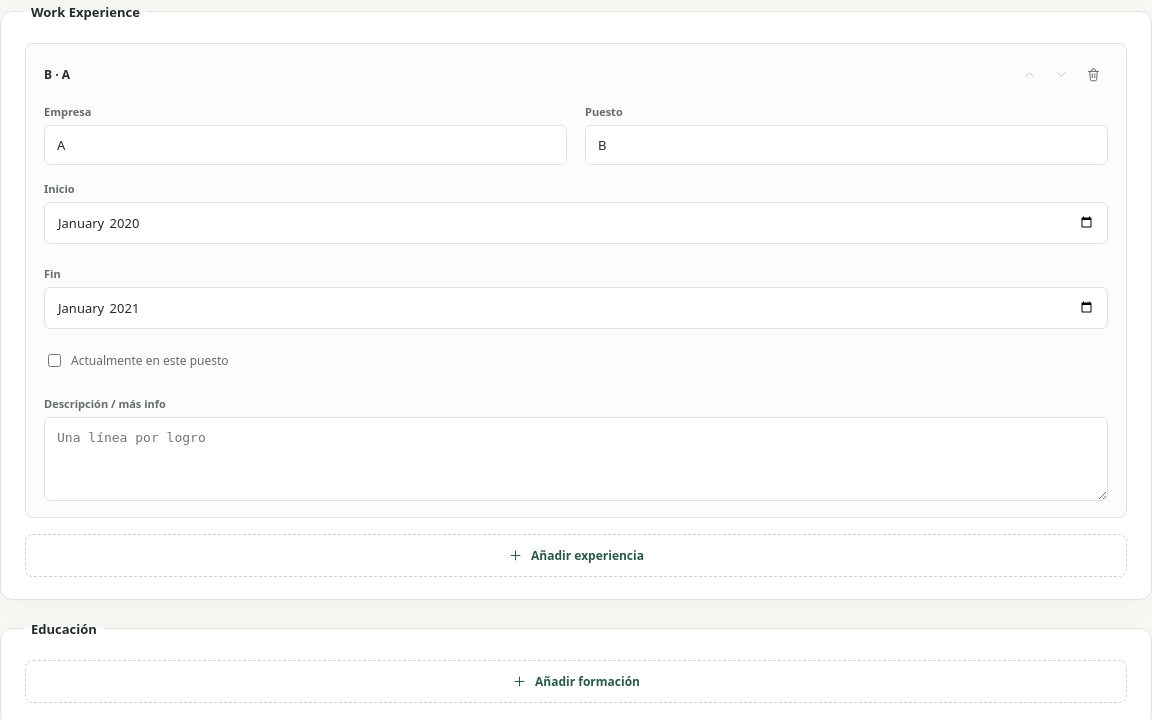
it: ProfileEditor › disables the end date while "current" is checked and clears it
(page scrolled)
What coordinates should you click on to do the following:
click the checkbox labelled "Actualmente en este puesto"
I would click on:
 (54, 360)
Its box is [48,354,61,366].
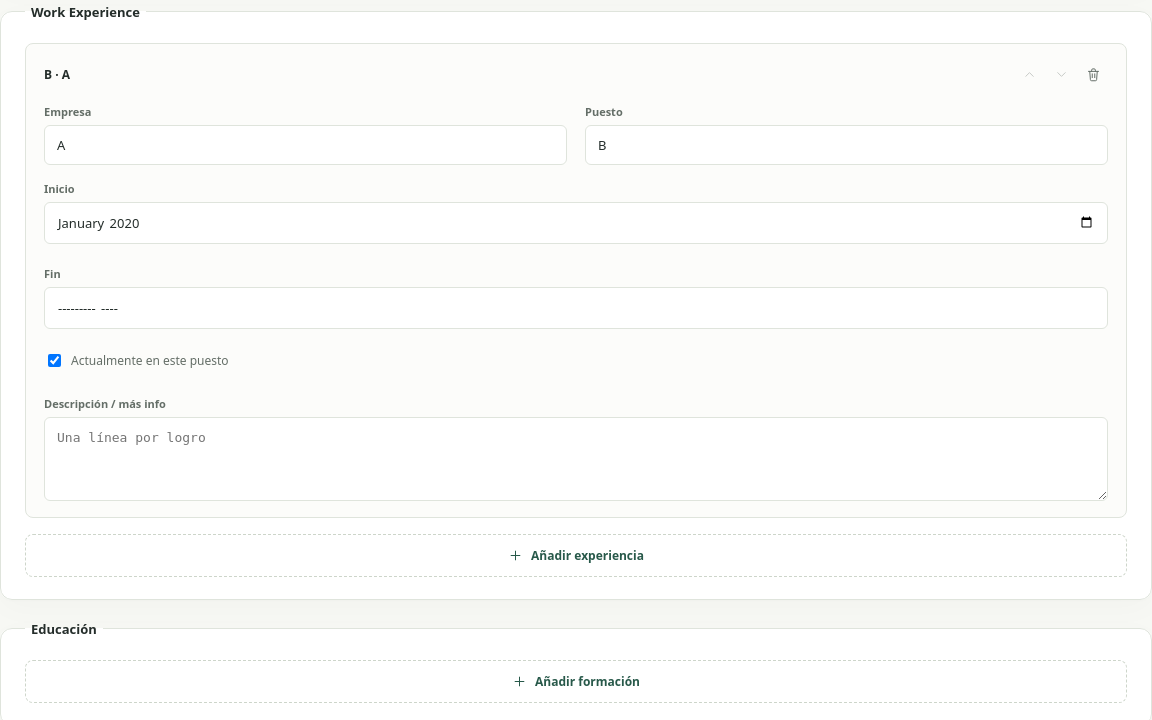
Check: the field labelled "Fin" is disabled, box [44,286,1108,328]
Check: the field labelled "Fin" is empty, box [44,286,1108,328]
